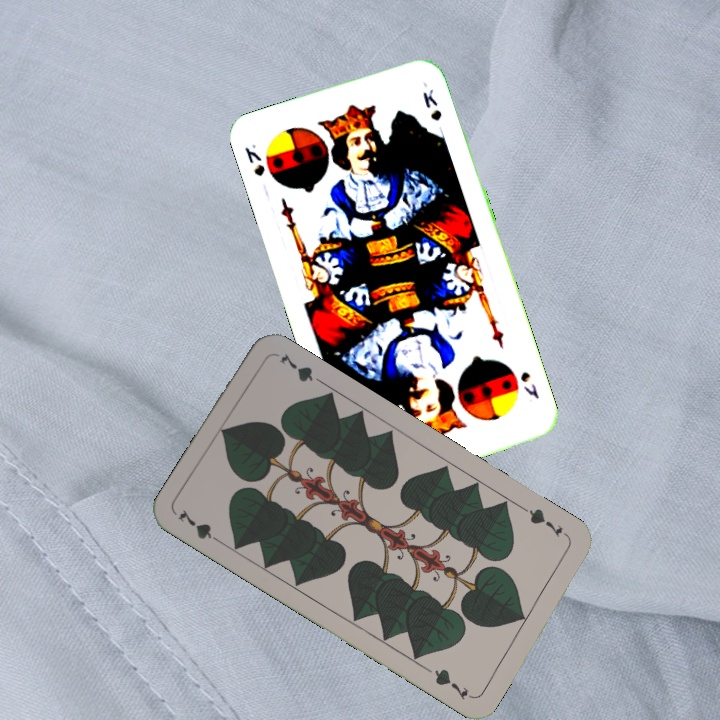G7: (174, 505, 227, 548), (519, 503, 572, 542)
SK: (240, 140, 268, 179), (516, 367, 542, 402)
